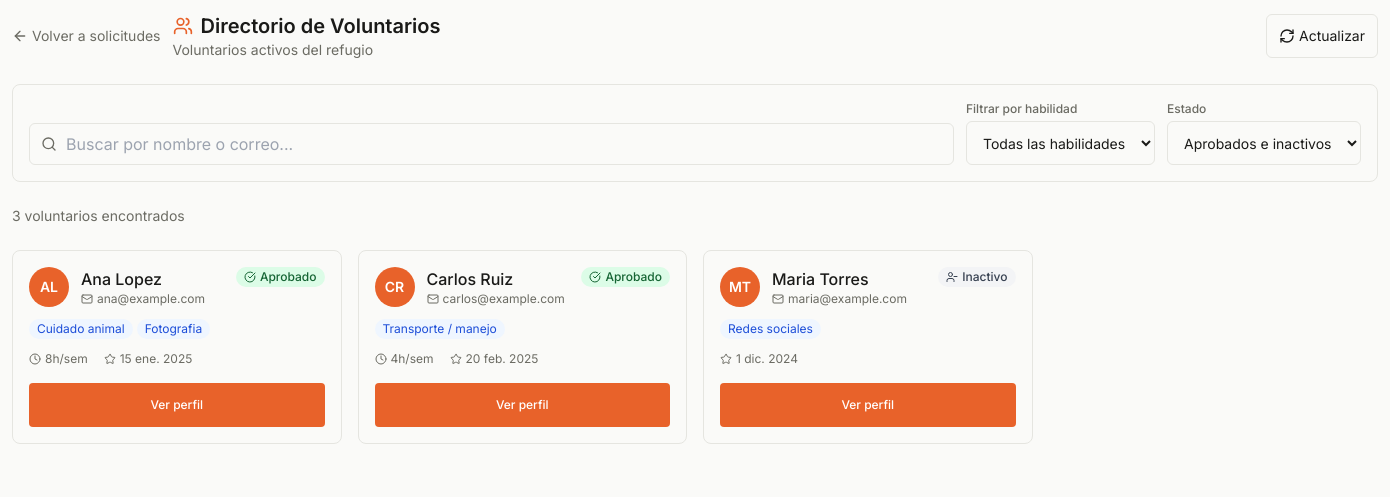
VolunteerDirectoryPage › shows empty filtered state when search has no matches
This screenshot has width=1390, height=497.
Expected: the text "Ana Lopez" is shown, x1=81 y1=269 x2=162 y2=289
Type "zzz-no-match-xyz" into the field with placeholder "Buscar por nombre o correo...". click: point(492, 144)
box: x1=29 y1=123 x2=954 y2=165
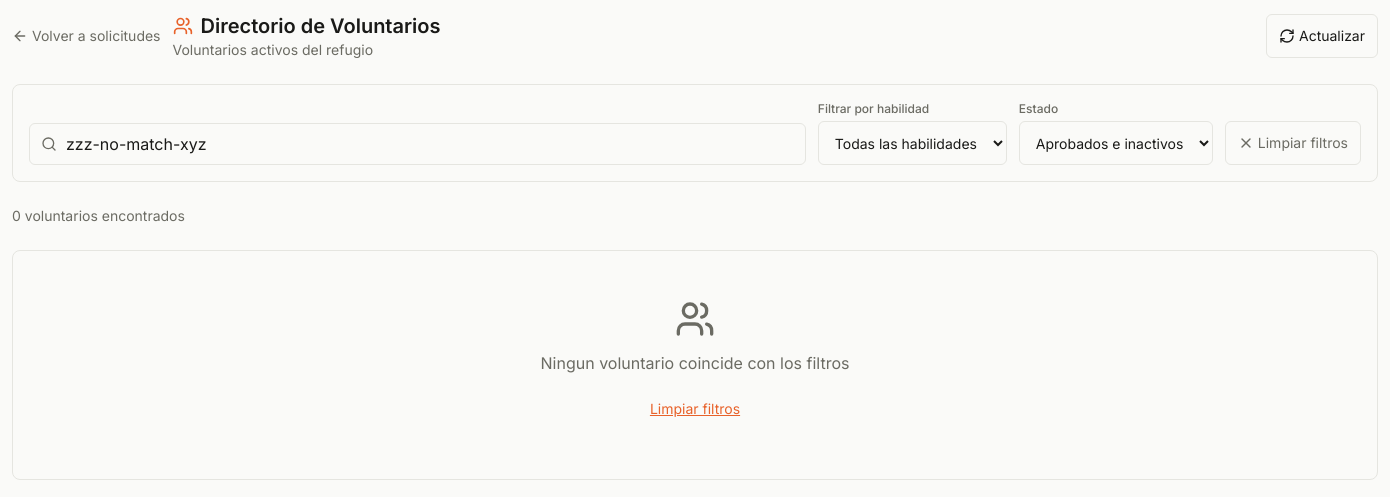
Result: the text "Ningun voluntario coincide con los filtros" is shown at x1=541 y1=353 x2=850 y2=373
